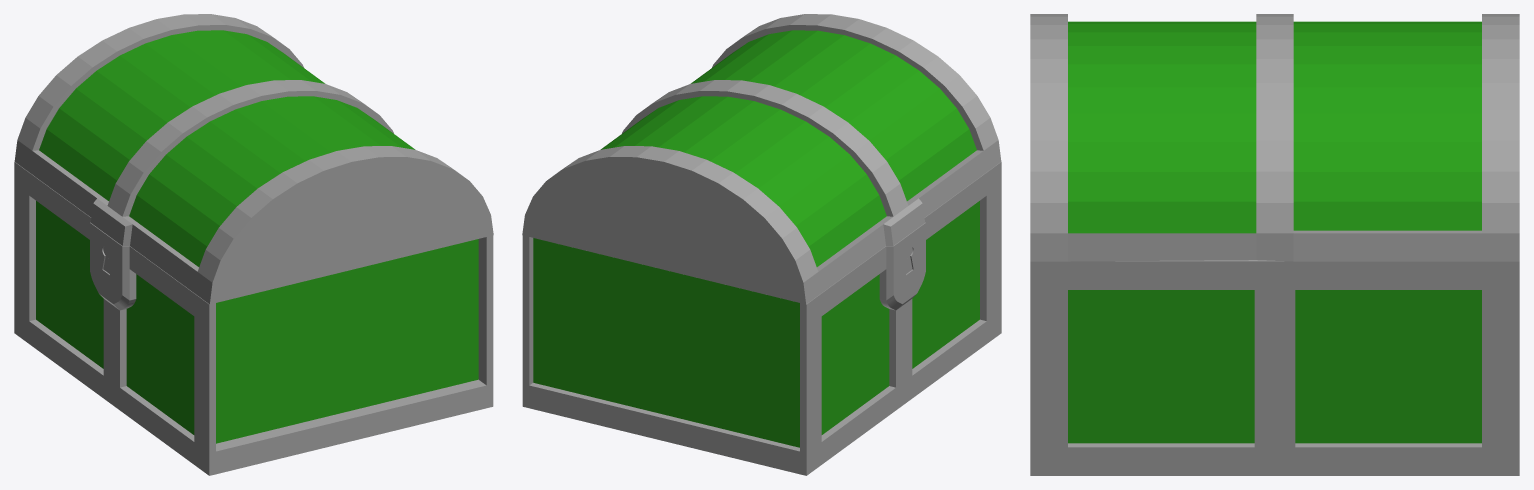
The model's file is GreenChest.fbx.
3 views of the same model, side by side, from view 1: azimuth 30°, elevation 25°; view 2: azimuth 150°, elevation 25°; view 3: azimuth 270°, elevation 25° (orthographic). The views are drawn at different scales.
Parts seen in each view (by area): view 1: Green Chest; view 2: Green Chest; view 3: Green Chest.
Boxes of the visible parts, x1,y1,x2,y2 form: Green Chest: [14, 14, 493, 475]; Green Chest: [522, 14, 1001, 475]; Green Chest: [1030, 14, 1519, 475].
Size of the model in its own units: 257 by 237 by 300.
